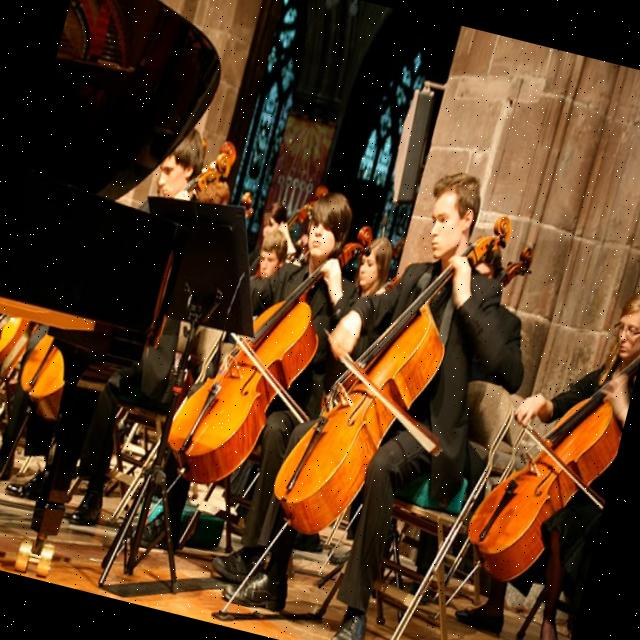cello: (262, 176, 520, 570), (11, 111, 238, 445), (156, 190, 378, 512), (458, 318, 640, 604)
